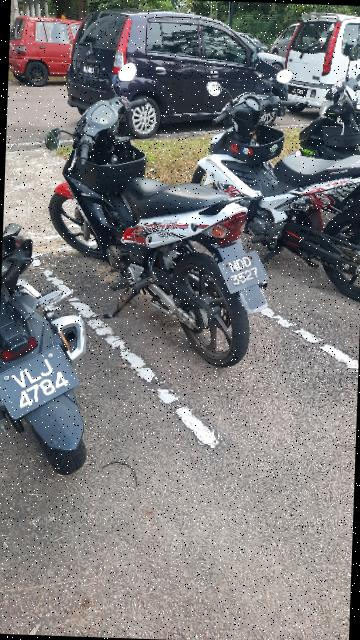License_Plate: (1, 342, 83, 423), (219, 247, 271, 295)
car: (63, 2, 293, 141), (270, 7, 360, 118), (11, 11, 127, 92)
motorcycle: (24, 53, 281, 378), (184, 60, 360, 303), (1, 196, 117, 478)
